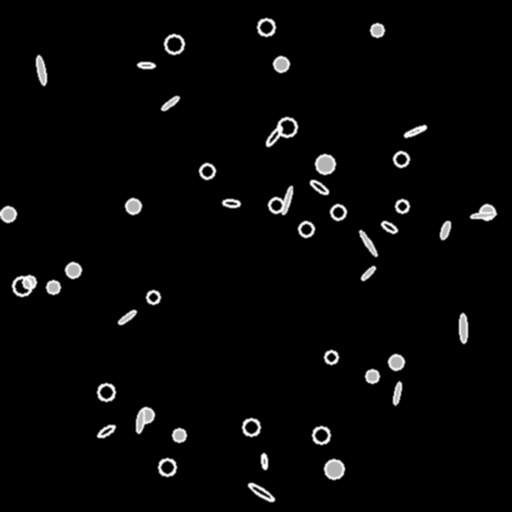pseudomonas: (247, 481, 275, 503), (358, 230, 378, 256), (264, 125, 284, 147), (280, 185, 294, 215), (309, 178, 329, 196), (35, 55, 47, 85), (403, 124, 427, 138), (160, 95, 180, 111), (117, 309, 137, 325), (97, 423, 115, 439), (380, 220, 398, 234), (392, 381, 402, 405), (439, 220, 451, 240), (135, 409, 145, 433), (459, 314, 467, 342), (470, 211, 496, 219), (361, 266, 375, 280), (223, 199, 239, 207), (261, 453, 267, 469), (138, 62, 154, 68)
synechocystis: (165, 35, 183, 53), (278, 118, 296, 136), (13, 277, 31, 295), (325, 460, 343, 478), (316, 155, 334, 173), (159, 459, 175, 475), (98, 384, 114, 400), (243, 419, 259, 435), (313, 427, 329, 443), (258, 19, 274, 35), (139, 408, 153, 422), (126, 199, 140, 213), (394, 152, 408, 166), (299, 222, 313, 236), (480, 205, 494, 219), (1, 207, 15, 221), (66, 263, 80, 277), (200, 164, 214, 178), (269, 198, 283, 212), (389, 355, 403, 369), (331, 205, 345, 219), (274, 57, 288, 71), (396, 200, 408, 212), (371, 24, 383, 36), (147, 291, 159, 303), (366, 370, 378, 382), (23, 276, 35, 288), (47, 281, 59, 293), (325, 351, 337, 363), (173, 429, 185, 441)
